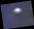Squash-Ball: (1, 0, 34, 29)
